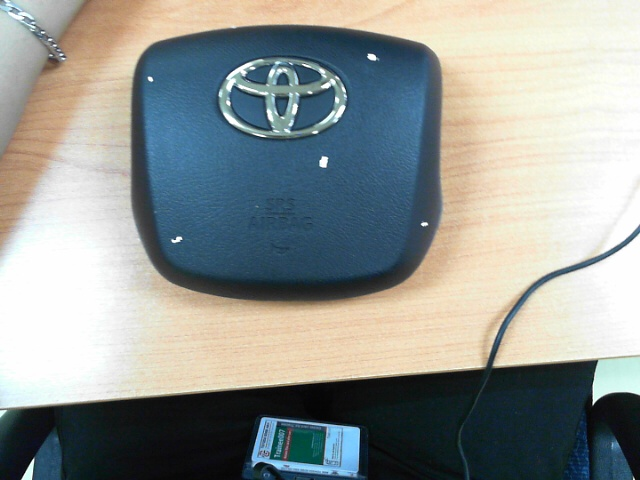Airbag: (319, 156, 329, 168), (171, 236, 183, 244), (367, 53, 379, 61), (147, 76, 154, 82), (420, 222, 428, 227)
